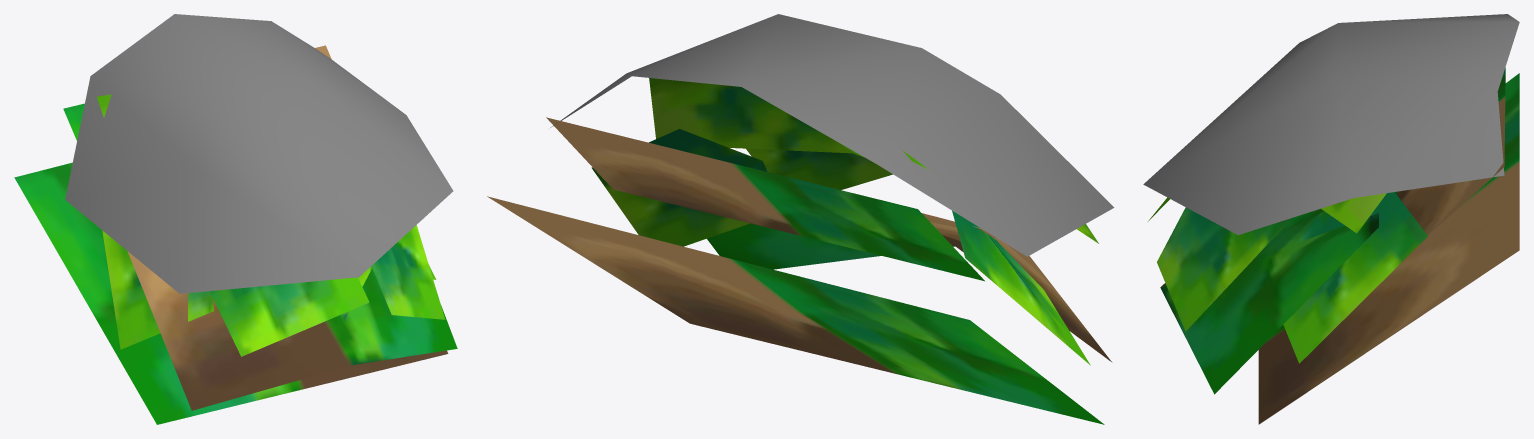
Rendered from fg_bushB_2_s.dae.
3 renders of one model, left to right at view 1: azimuth 30°, elevation 25°; view 2: azimuth 150°, elevation 25°; view 3: azimuth 270°, elevation 25°, orthographic. The views are drawn at different scales.
Parts seen in each view (by area): view 1: fg_bushB_2_s; view 2: fg_bushB_2_s; view 3: fg_bushB_2_s.
Boxes of the visible parts, <box> form: fg_bushB_2_s: <box>14,14,457,424</box>; fg_bushB_2_s: <box>487,14,1114,424</box>; fg_bushB_2_s: <box>1143,14,1519,424</box>.
Size of the model in its own units: 43.24 by 35.41 by 37.79.
Materials: 1 (1 with a texture image).
